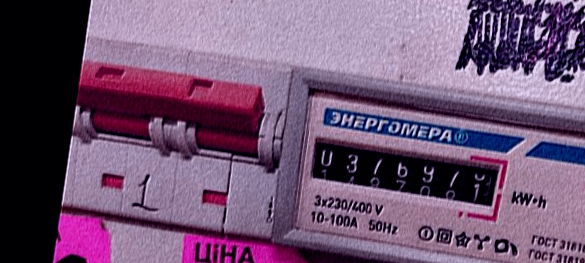0: (317, 145, 335, 168)
1: (469, 181, 483, 203)
3: (343, 151, 360, 175)
6: (395, 156, 411, 179)
7: (369, 151, 385, 177), (445, 165, 461, 189)
9: (419, 161, 435, 184)
screen: (300, 129, 511, 226)
